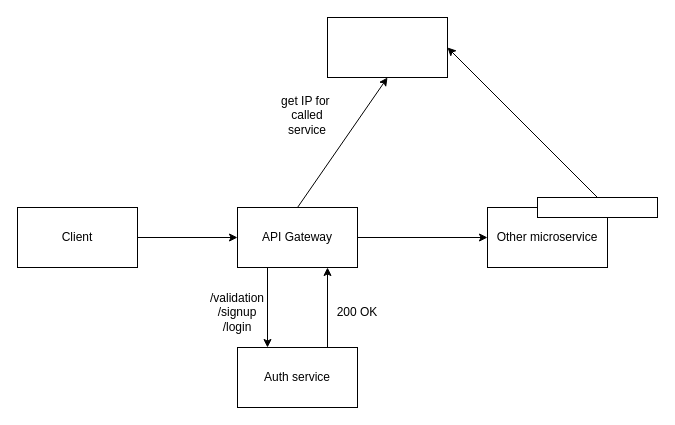
Image size: 675x425. Some labels were removed from this diagram. Each missing label, with the centre of its shape:
"Client (microservice)" goes at point 597,207.
"Service registry (server)" goes at point 387,47.
